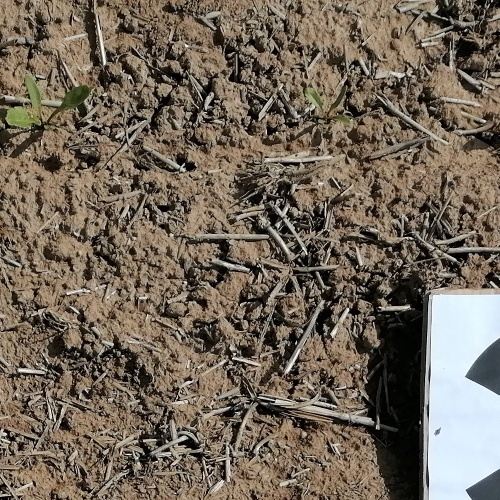beet: (5, 70, 91, 128), (303, 86, 353, 126)
